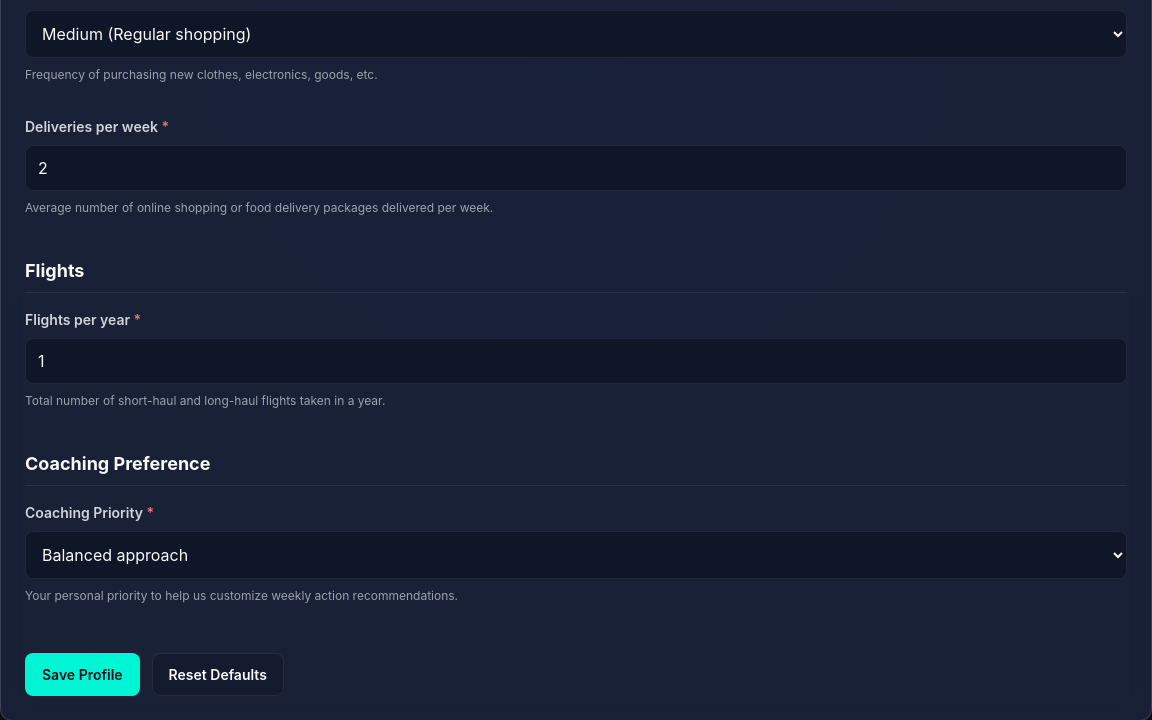
Test: ProfileOnboarding Component › flight count requires whole number
(page scrolled)
Replace the text in the number field labelled "Flights per year" with "2.5" at (576, 361), box [25,338,1127,384]
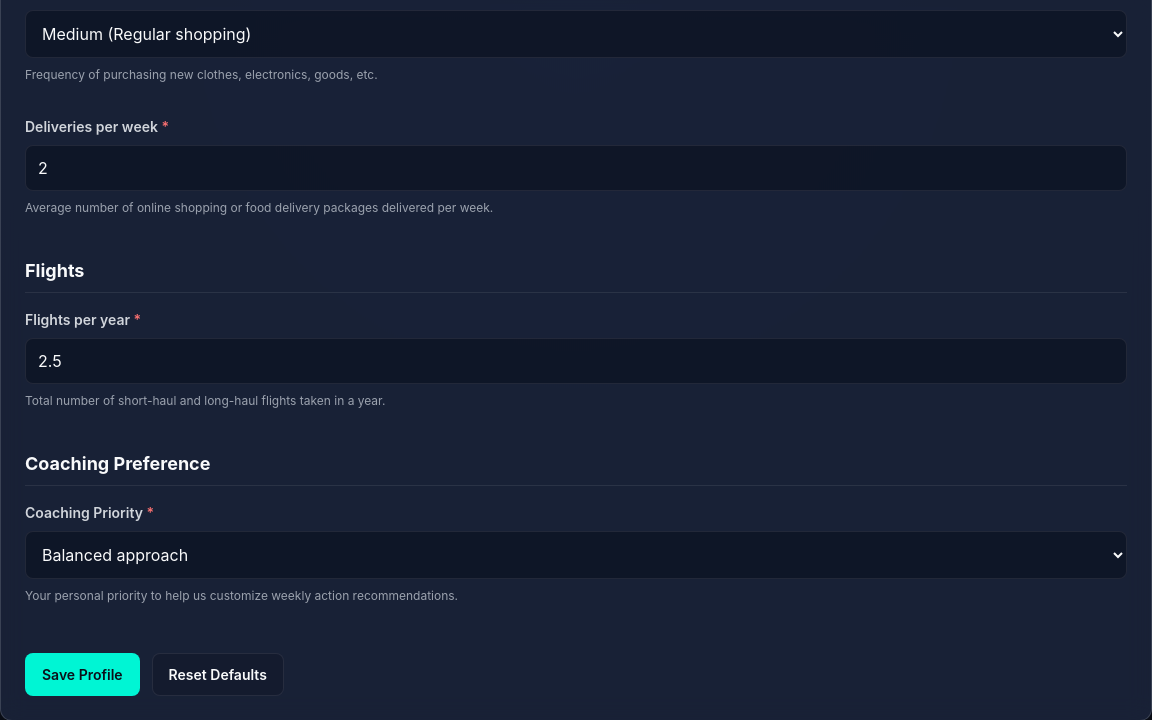
Click the button "Save Profile" at (82, 674), box [25,653,140,696]
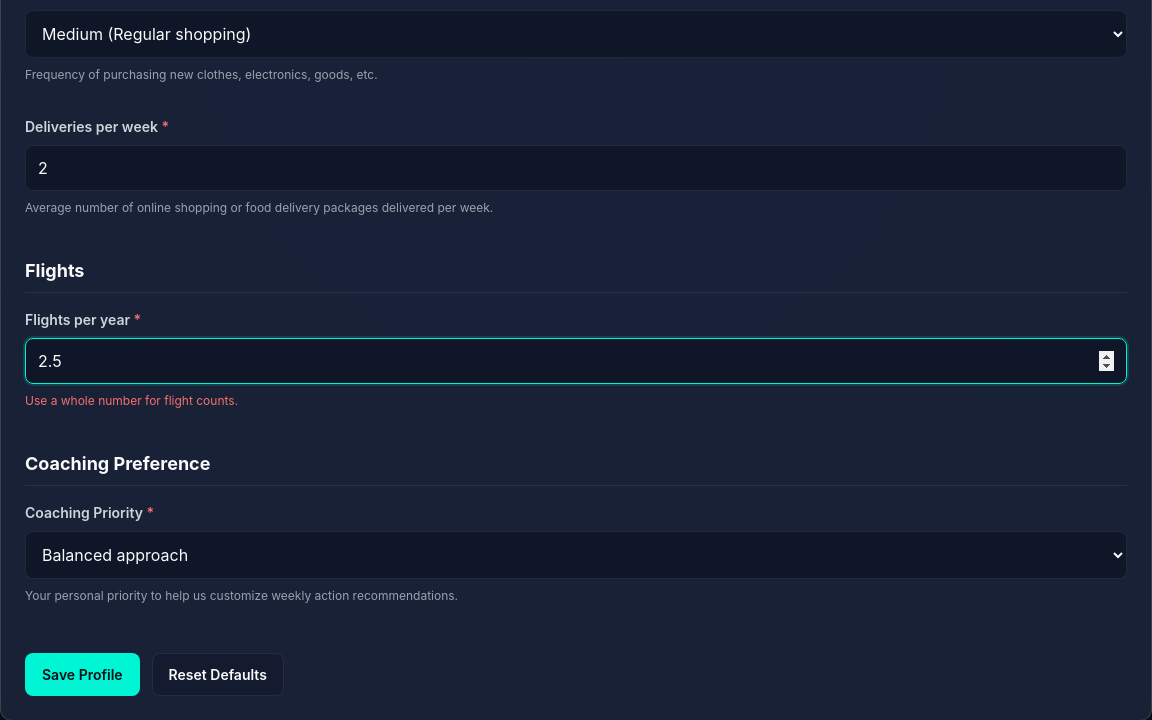
Now the text "Use a whole number for flight counts." is shown, box [25,393,238,408]
